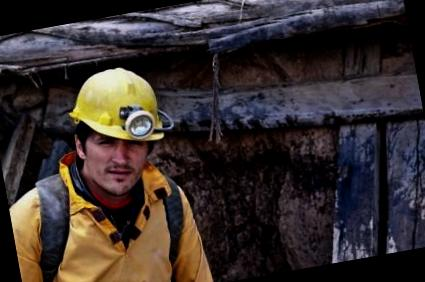helmet: (61, 60, 176, 154)
no_vest: (4, 144, 214, 282)
person: (0, 44, 213, 282)
